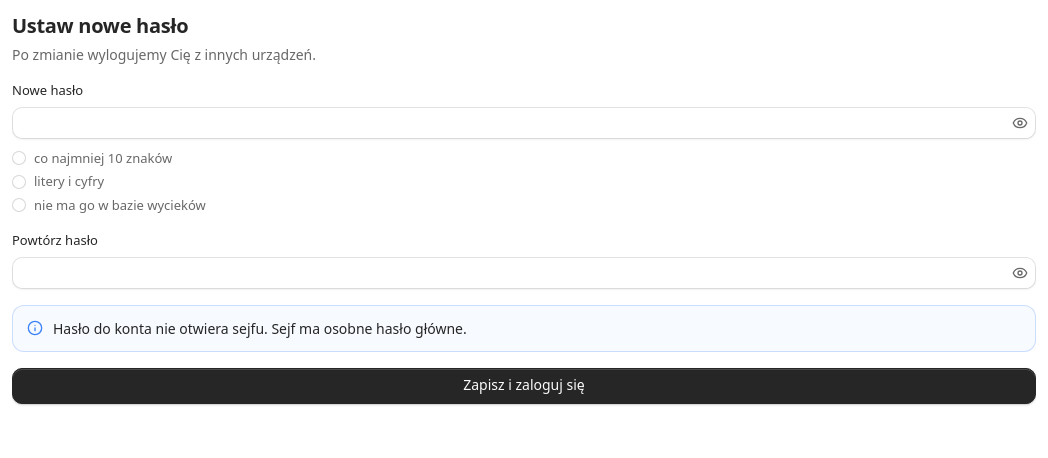
it: NewPasswordForm › po błędzie akcji pole hasła i reguły pokazują to samo hasło
Step 1. Type "rytm2026dobre" into the password field labelled "Nowe hasło" → [524, 122], box [12,106,1036,138]
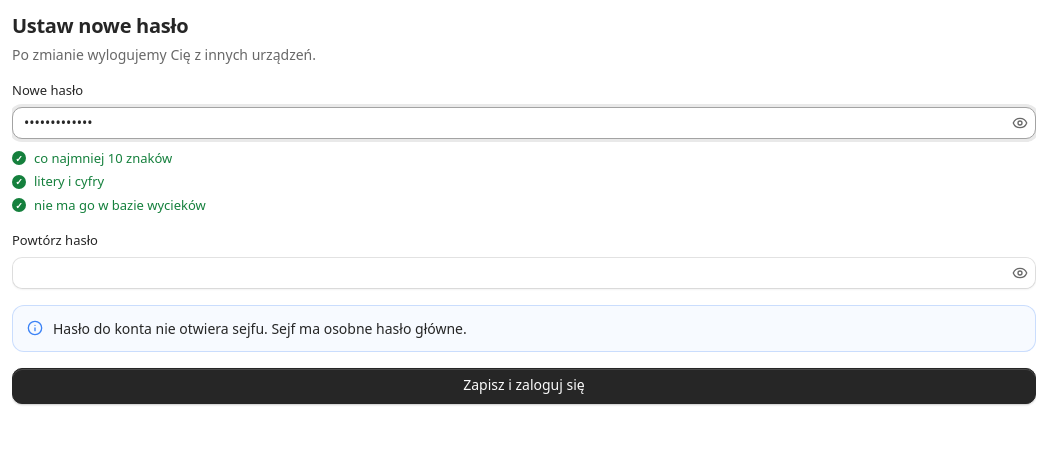
Step 2. Type "rytm2026dobre" into the password field labelled "Powtórz hasło" → [524, 272], box [12,256,1036,288]
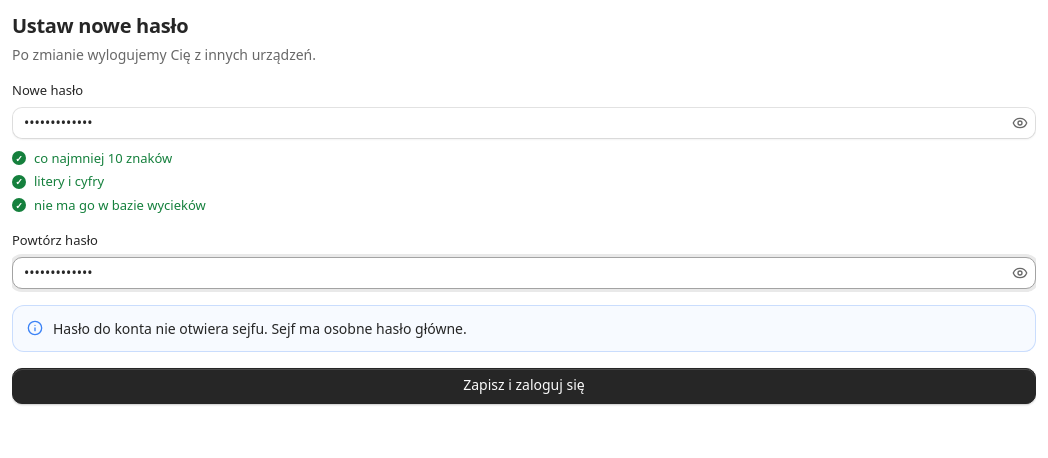
Step 3. Click the button "Zapisz i zaloguj się" → [524, 386], box [12,368,1036,404]
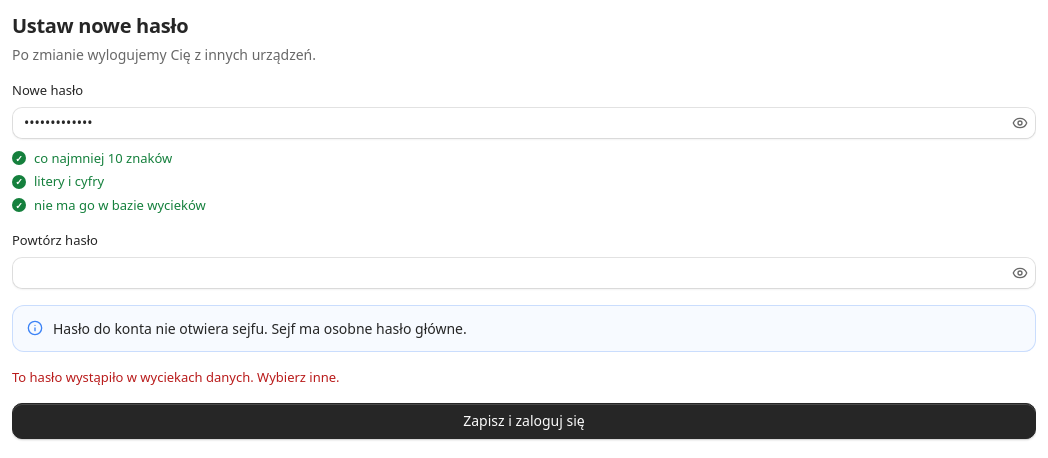
Expected: the message reads "To hasło wystąpiło w wyciekach danych. Wybierz inne.", [12,368,340,386]
